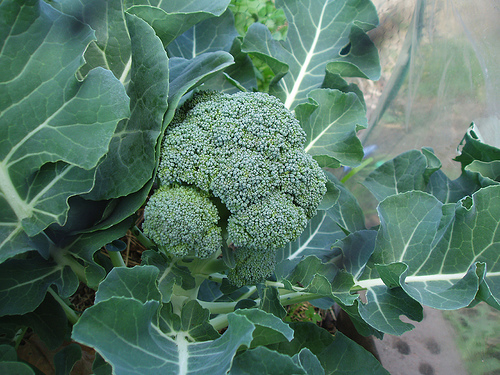broccoli: (139, 89, 331, 282)
